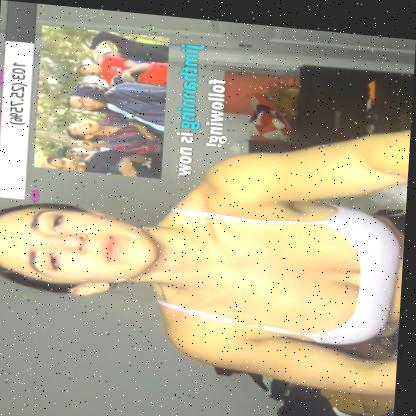donation: (33, 23, 234, 181)
streamer: (0, 84, 412, 388)
